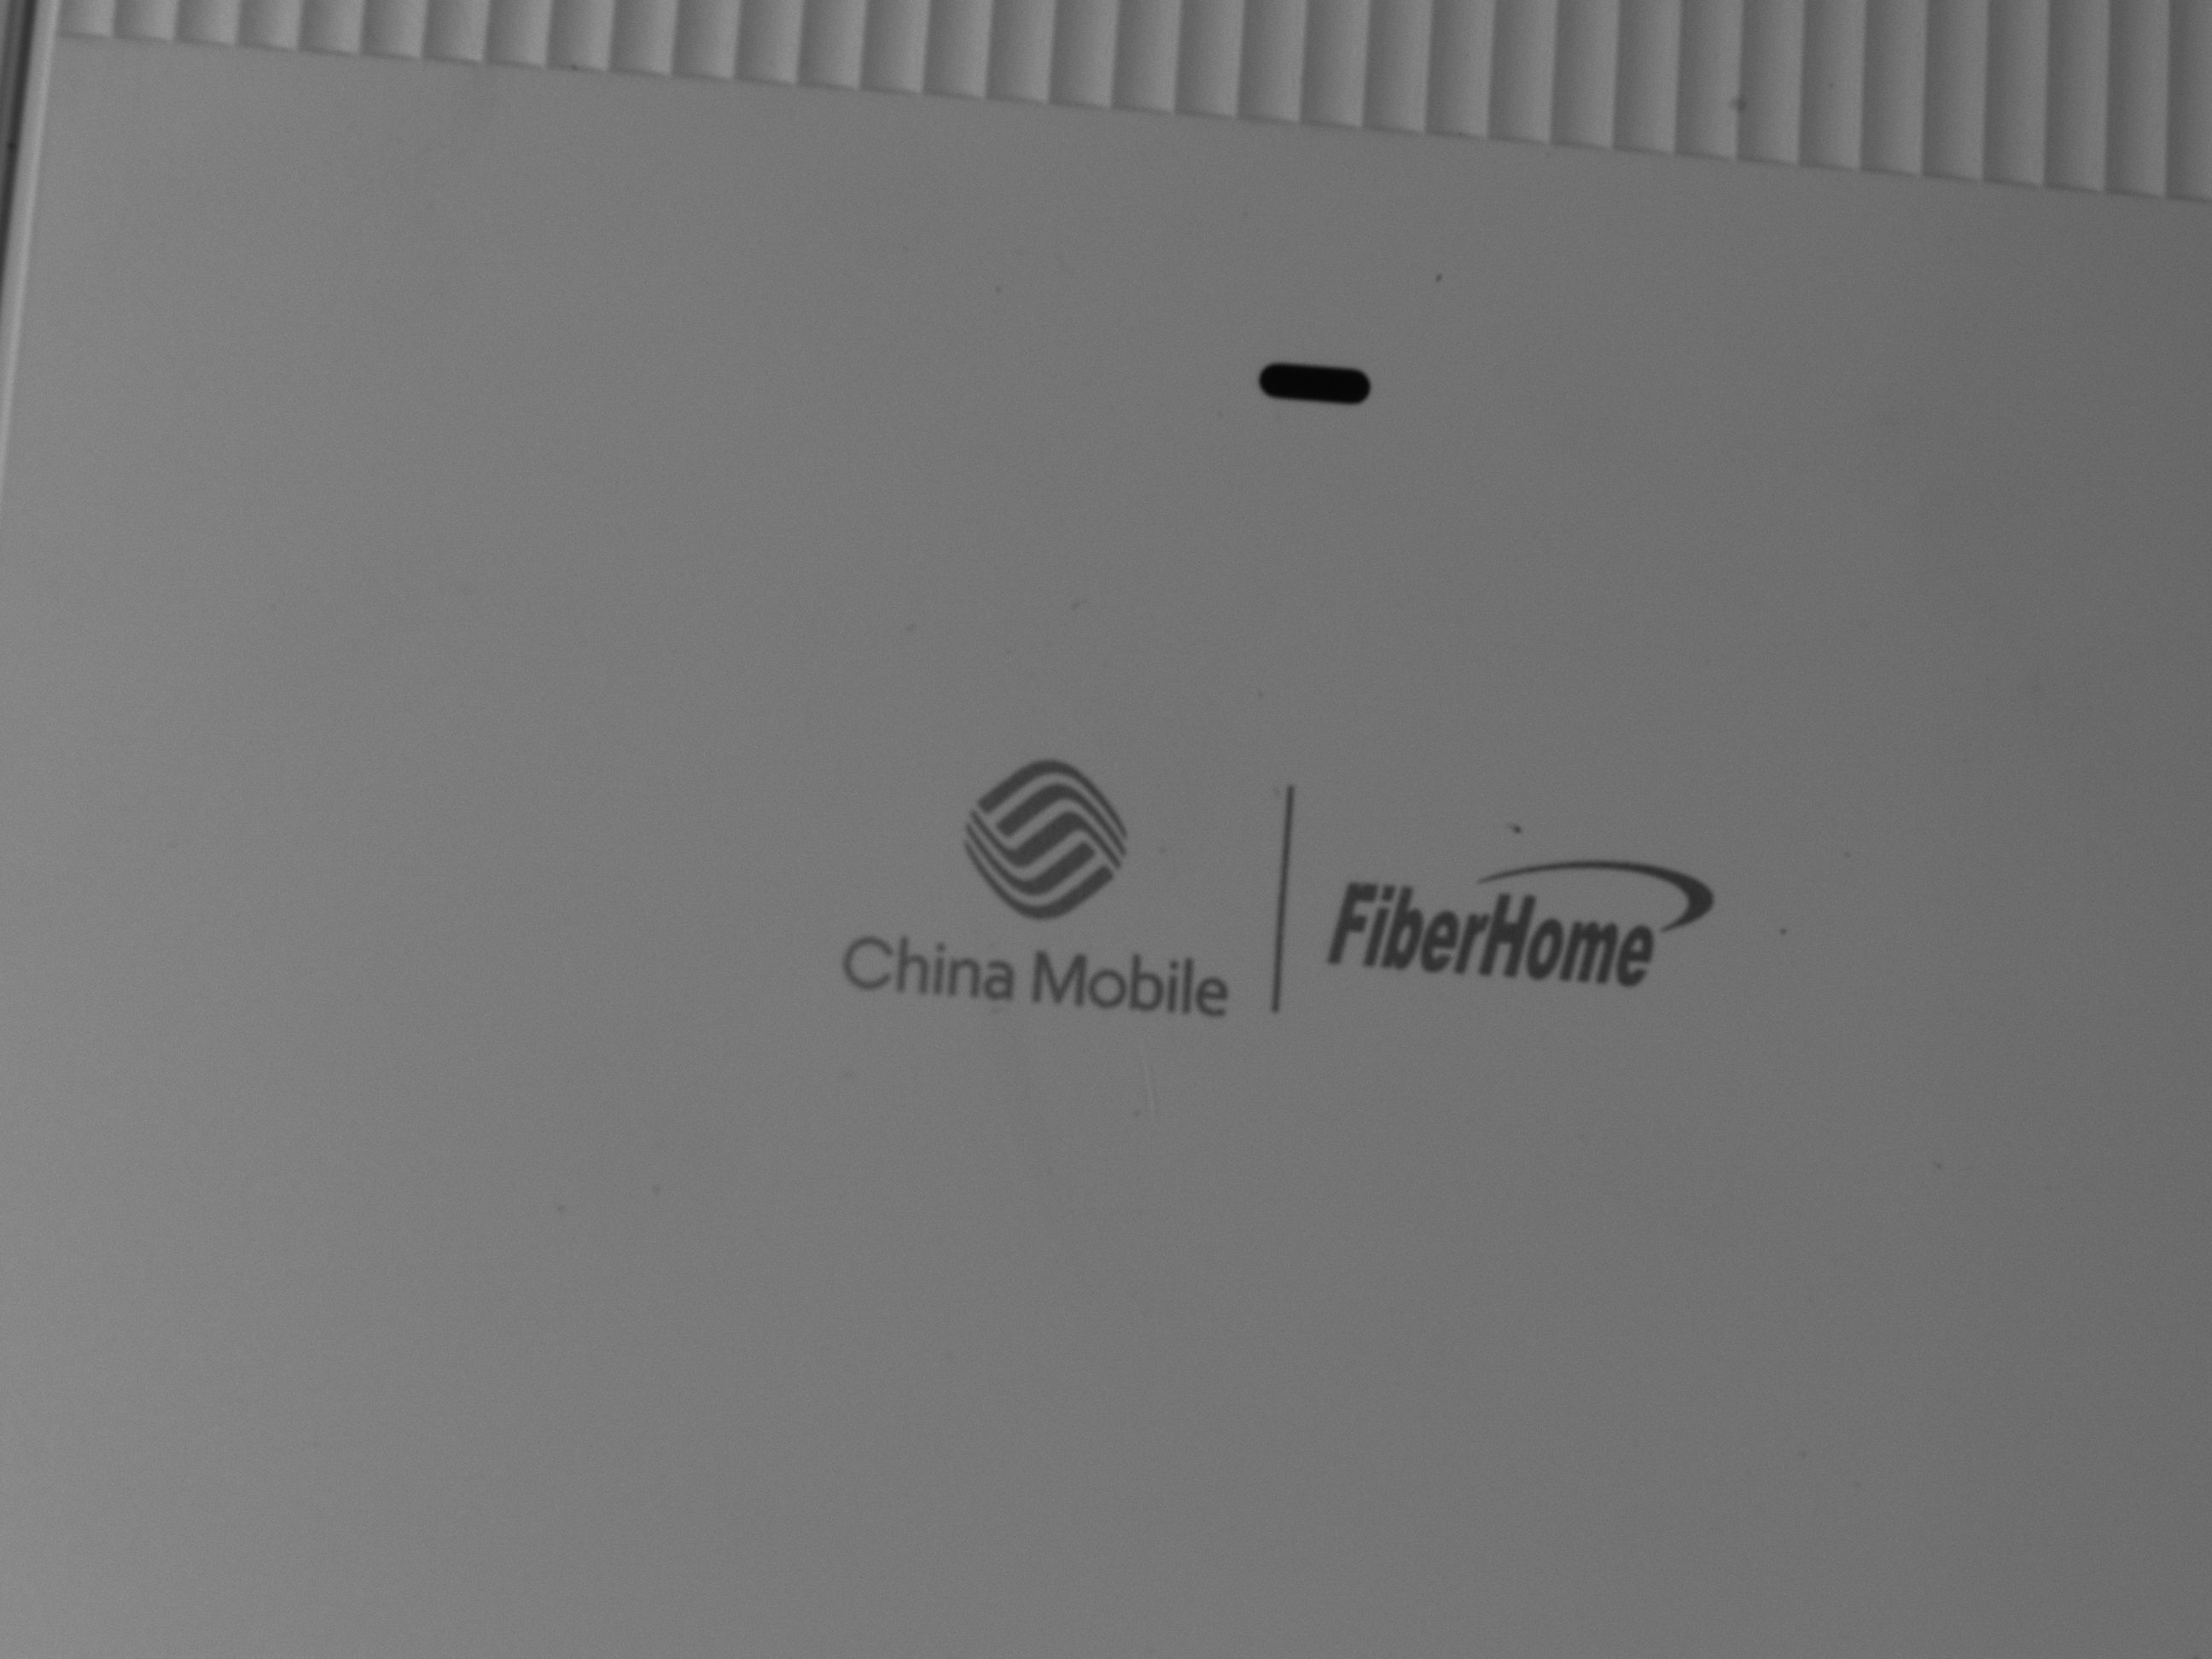BX_HG6371FMobileFiberhome: (799, 727, 1745, 1046)
